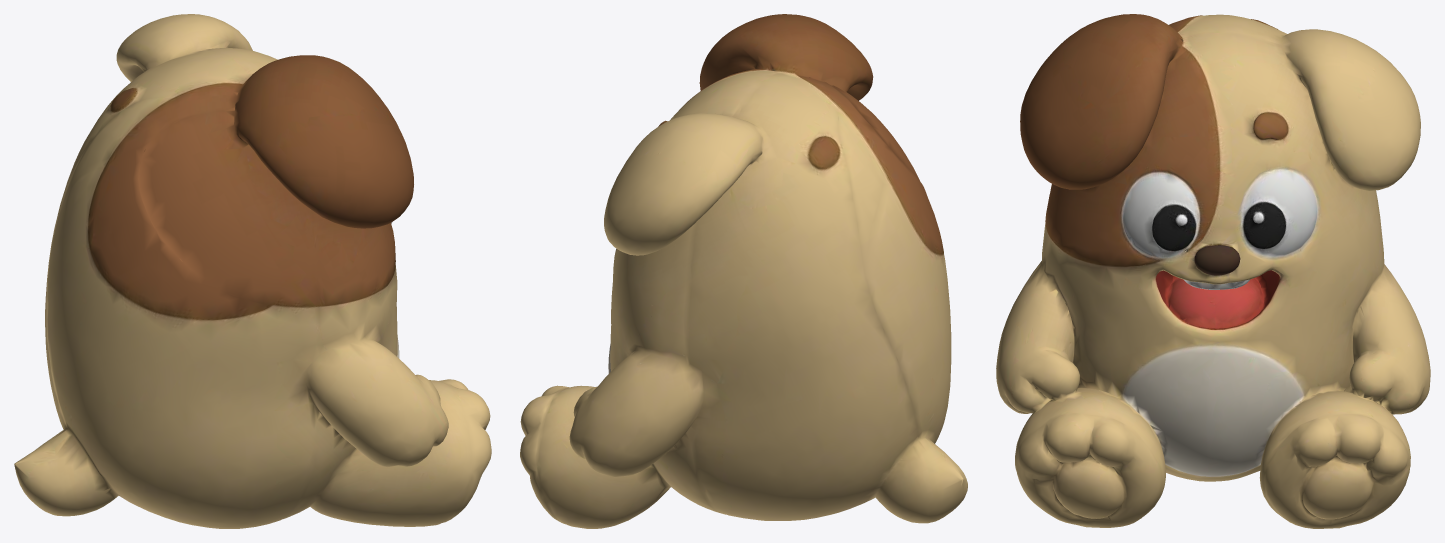
File: dali-plush.glb
The picture shows the model from 3 angles, left to right: view 1: azimuth 30°, elevation 25°; view 2: azimuth 150°, elevation 25°; view 3: azimuth 270°, elevation 25°; orthographic projection. The views are drawn at different scales.
Parts seen in each view (by area): view 1: tripo_node_e5d4a3c8-a4f6-40dd-be93-f126e385cf83; view 2: tripo_node_e5d4a3c8-a4f6-40dd-be93-f126e385cf83; view 3: tripo_node_e5d4a3c8-a4f6-40dd-be93-f126e385cf83.
Part boxes in pixels (bbox=[...]): tripo_node_e5d4a3c8-a4f6-40dd-be93-f126e385cf83: bbox=[14, 14, 491, 528]; tripo_node_e5d4a3c8-a4f6-40dd-be93-f126e385cf83: bbox=[520, 14, 967, 528]; tripo_node_e5d4a3c8-a4f6-40dd-be93-f126e385cf83: bbox=[996, 14, 1430, 528].
Size of the model in its own units: 0.8748 by 1 by 0.8585.
1 material, 1 textured.
